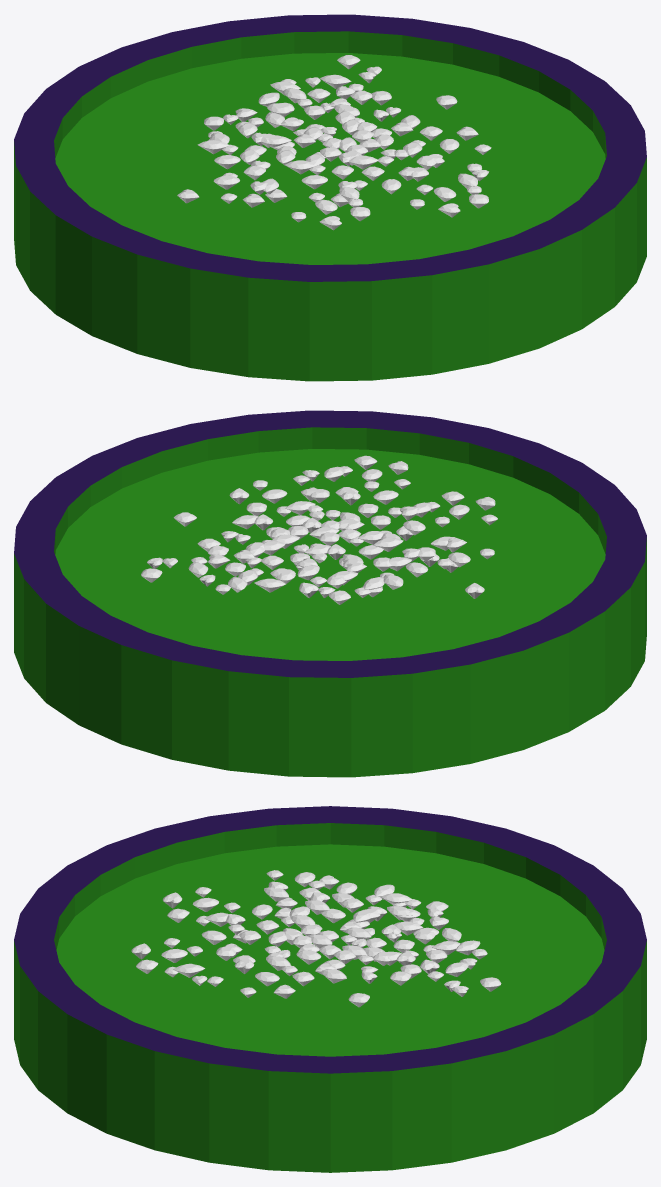
Rendered from Diamond tray.fbx.
3 views of the same model, one above another, from view 1: azimuth 30°, elevation 25°; view 2: azimuth 150°, elevation 25°; view 3: azimuth 270°, elevation 25° (orthographic).
Visible parts, largest first — view 1: Base; view 2: Base; view 3: Base.
Part boxes in pixels (box(x1,y1,x2,y2)): Base: box(14, 14, 646, 381); Base: box(14, 410, 646, 777); Base: box(14, 806, 646, 1172).
Size of the model in its own units: 795 by 154 by 795.
